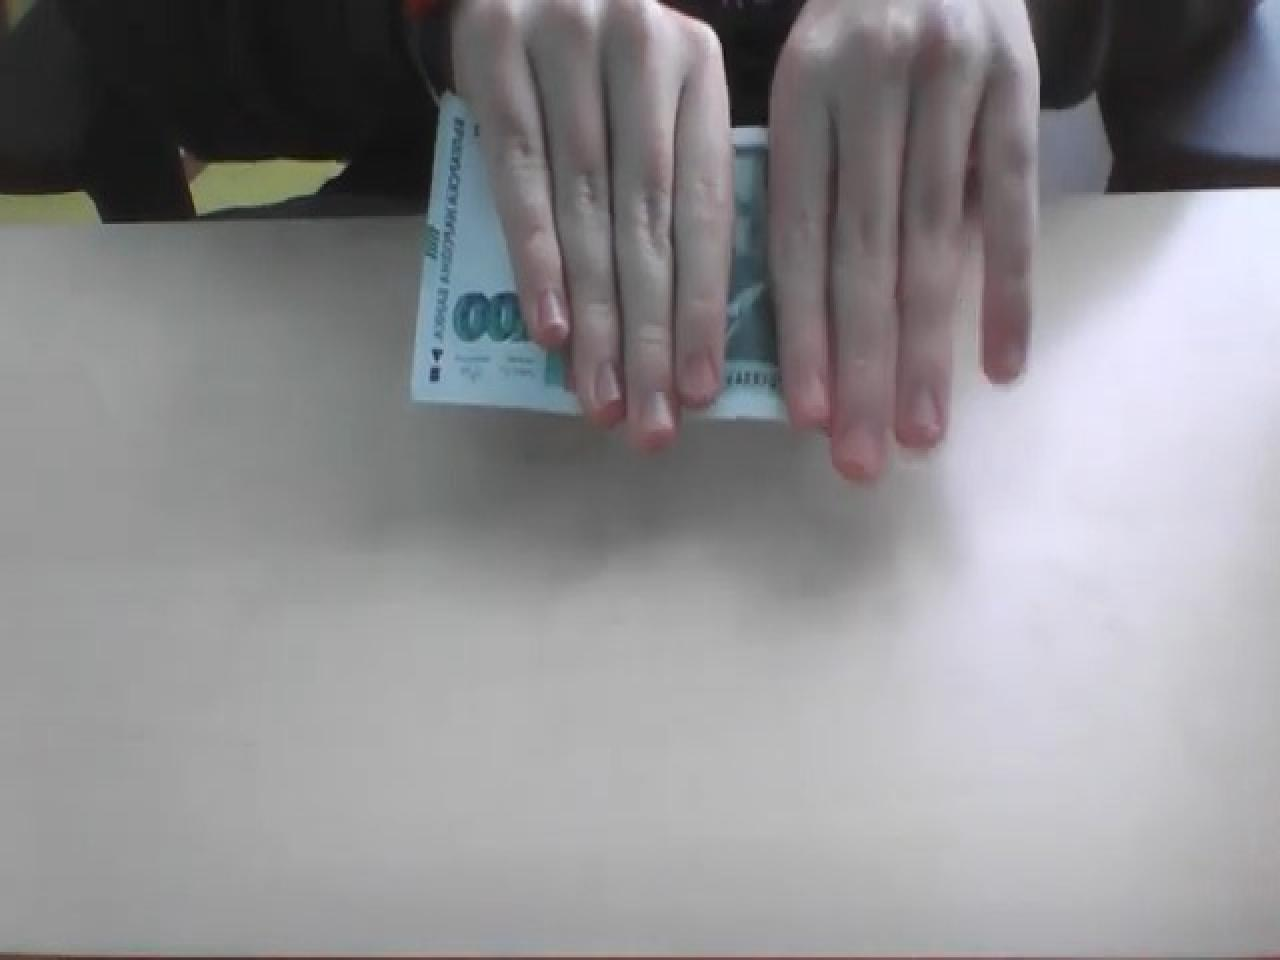100leva: (410, 88, 794, 430)
